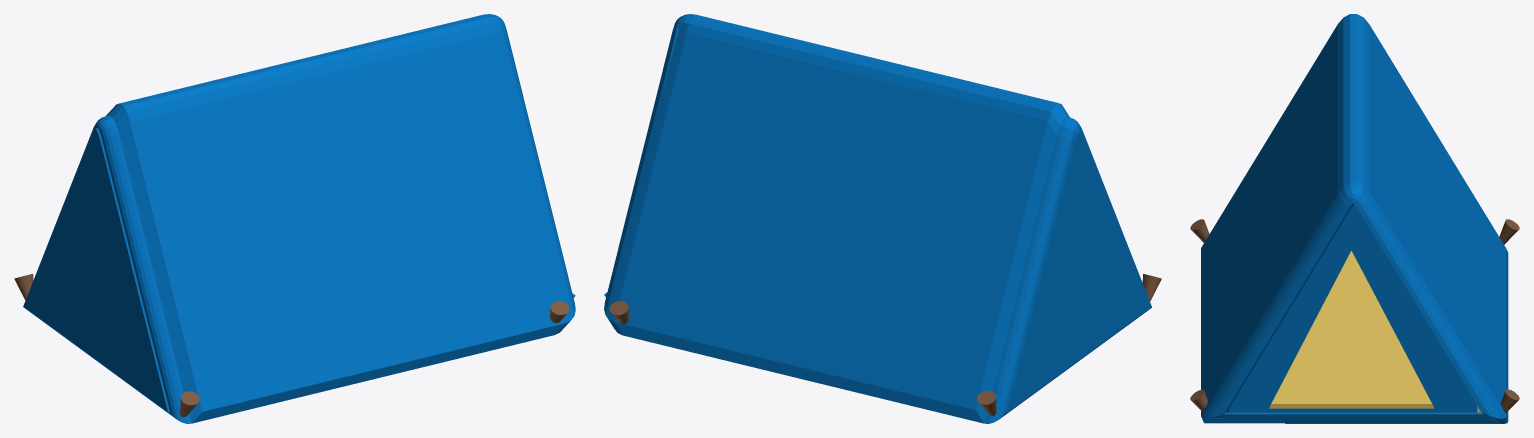
Rendered from Tenda 2.fbx.
3 renders of one model, left to right at view 1: azimuth 30°, elevation 25°; view 2: azimuth 150°, elevation 25°; view 3: azimuth 270°, elevation 25°, orthographic. The views are drawn at different scales.
Visible parts, largest first — view 1: Tenda, Pintu Belakang, Cube; view 2: Tenda, Pintu Belakang, Cube; view 3: Tenda, Cube.001, Alas.
Part boxes in pixels (bbox=[...]): Tenda: bbox=[106, 14, 575, 423]; Pintu Belakang: bbox=[23, 128, 169, 412]; Cube: bbox=[23, 115, 191, 423]; Tenda: bbox=[604, 14, 1069, 423]; Pintu Belakang: bbox=[1006, 129, 1151, 412]; Cube: bbox=[984, 116, 1151, 423]; Tenda: bbox=[1201, 14, 1508, 423]; Cube.001: bbox=[1229, 205, 1477, 412]; Alas: bbox=[1269, 251, 1481, 412].
Size of the model in its own units: 520 by 313 by 382.
